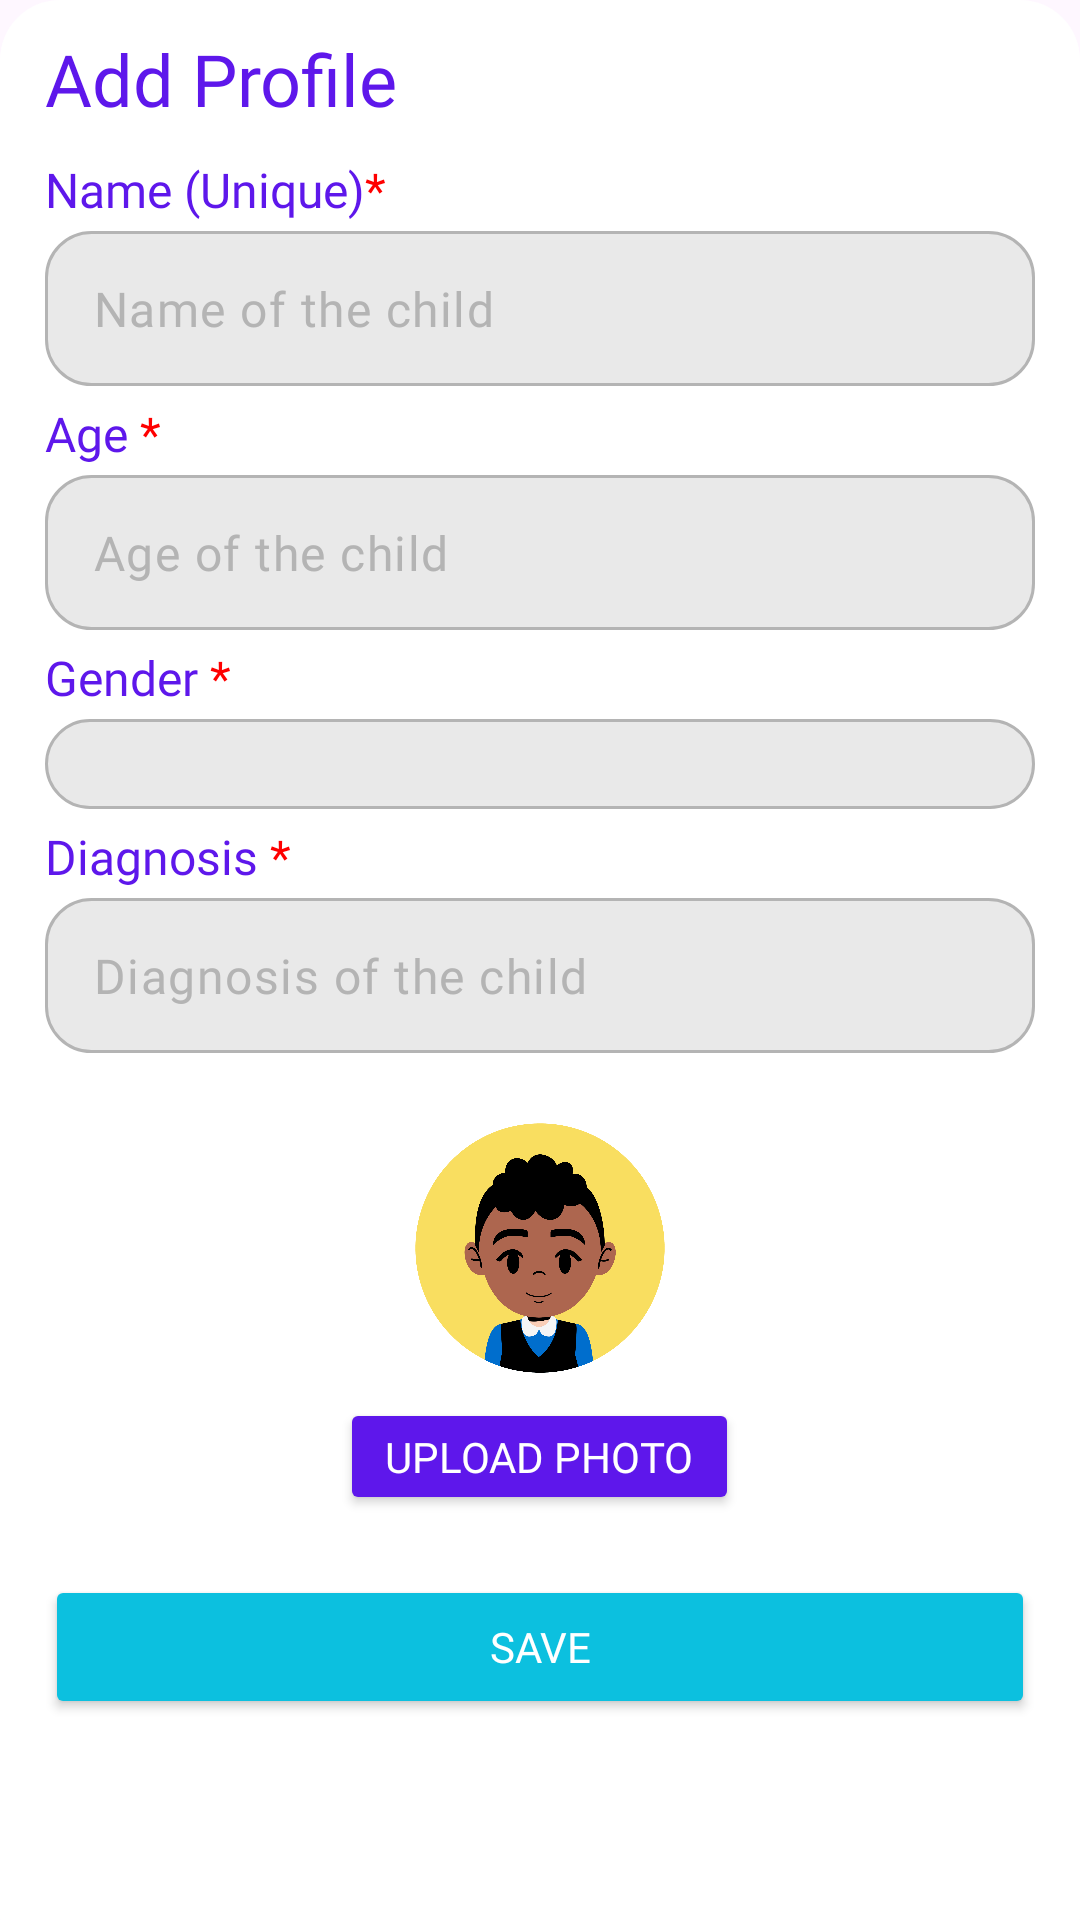

Named icons in this screenshot (1080×1920) and their bounding boxes, (x1,y1,x2,y2):
Profile Icon: (415,1123,665,1373)
